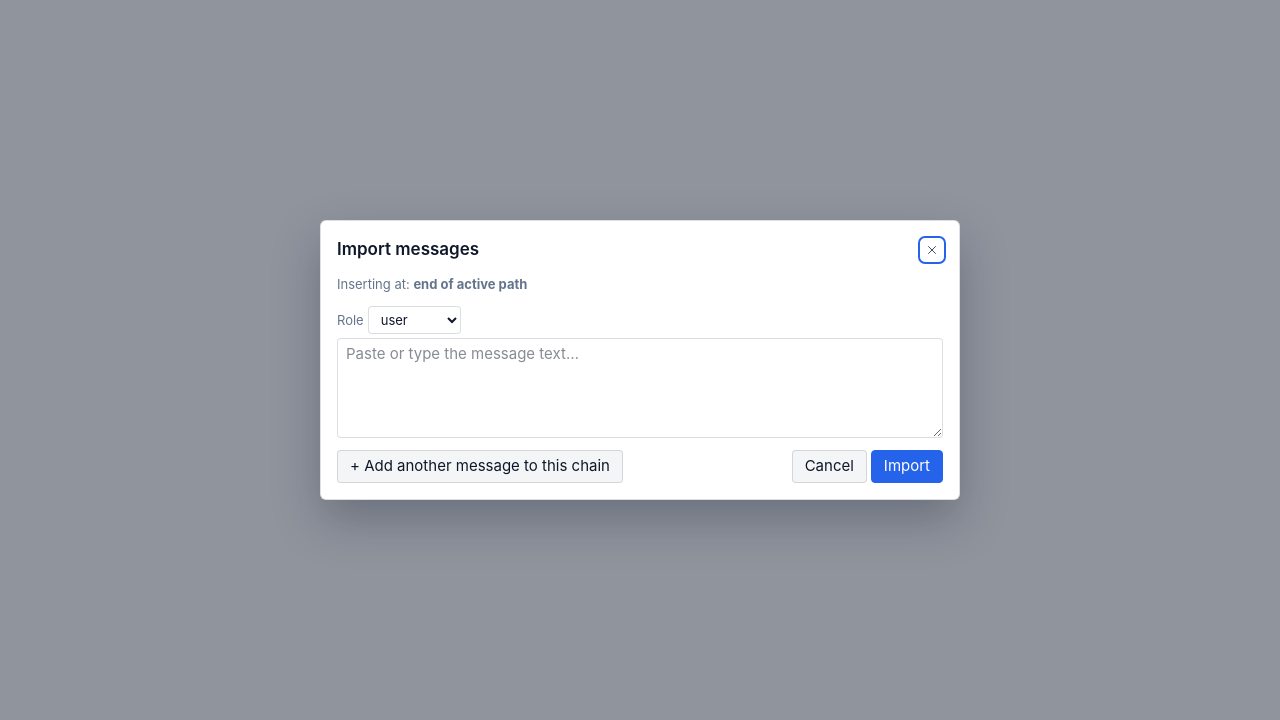
ImportModal conversation action boundary › keeps the modal open and surfaces action failure
Step 1. Click the button "Import" → click(907, 467), box x1=871 y1=450 x2=943 y2=483
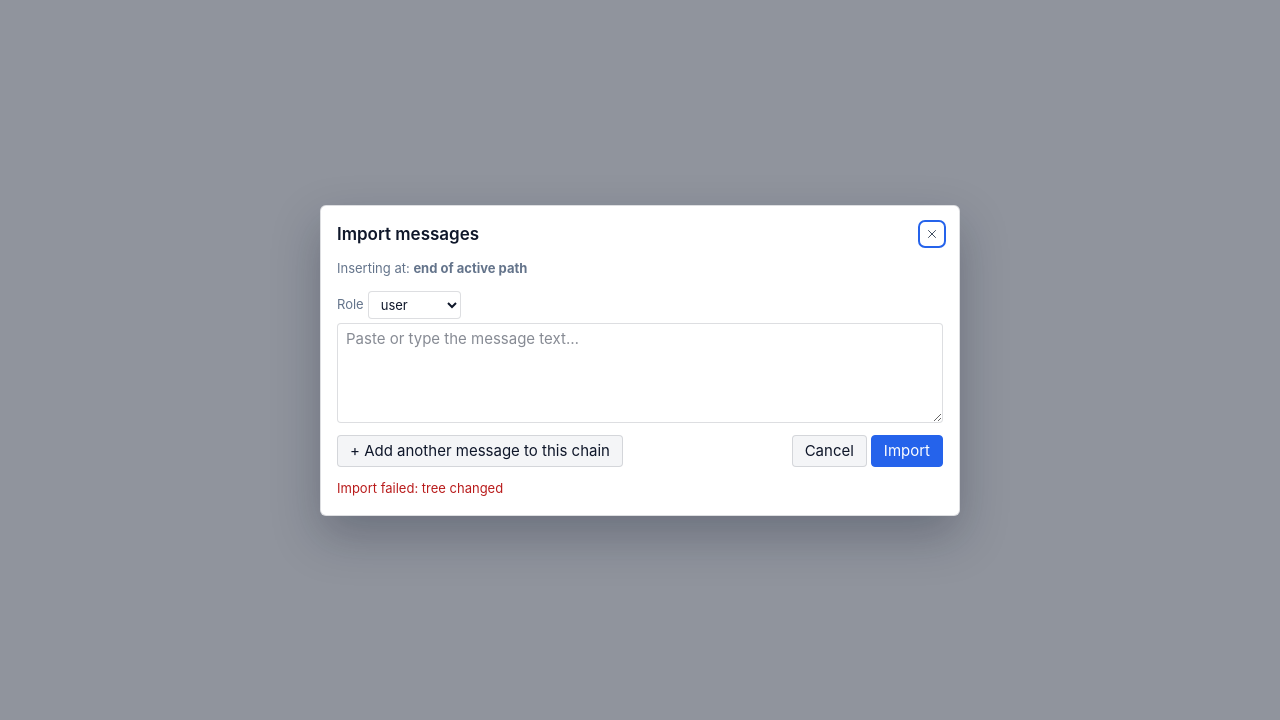
Check: the text "Import failed: tree changed" is shown, box x1=337 y1=480 x2=503 y2=496
